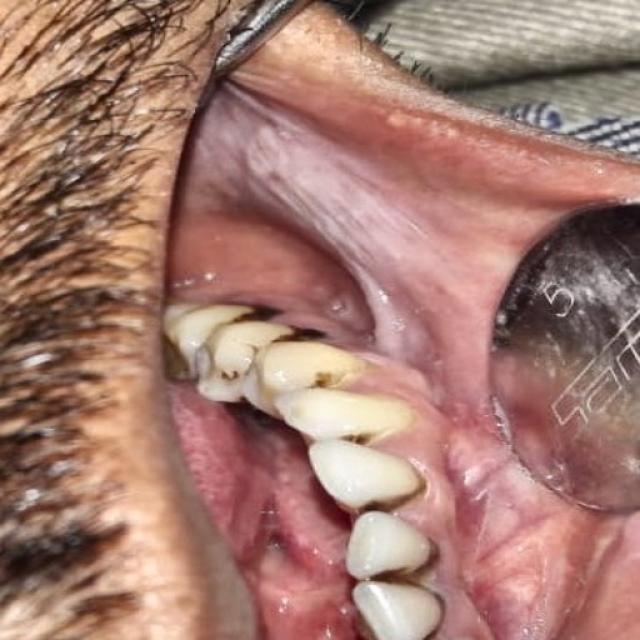cancer-detection: (173, 82, 452, 367)
processing_area: (156, 65, 639, 639), (161, 386, 372, 639)
